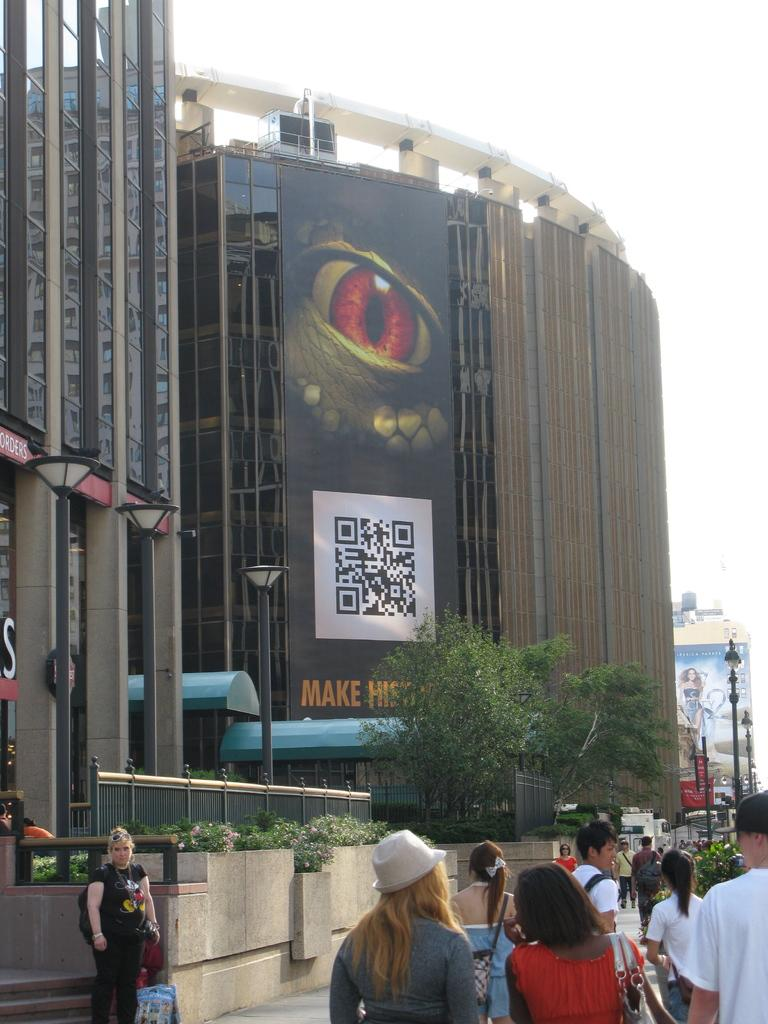Hat: (345, 825, 458, 900)
